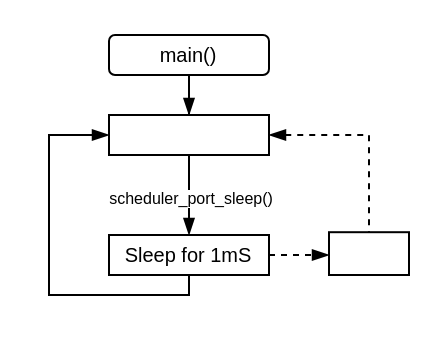
Image size: 444x346. Some labels were removed from this diagram. The centre of each missing label's shape, as x and y in pixels:
ISR: point 368,252
Scheduler Loop: point 188,134
